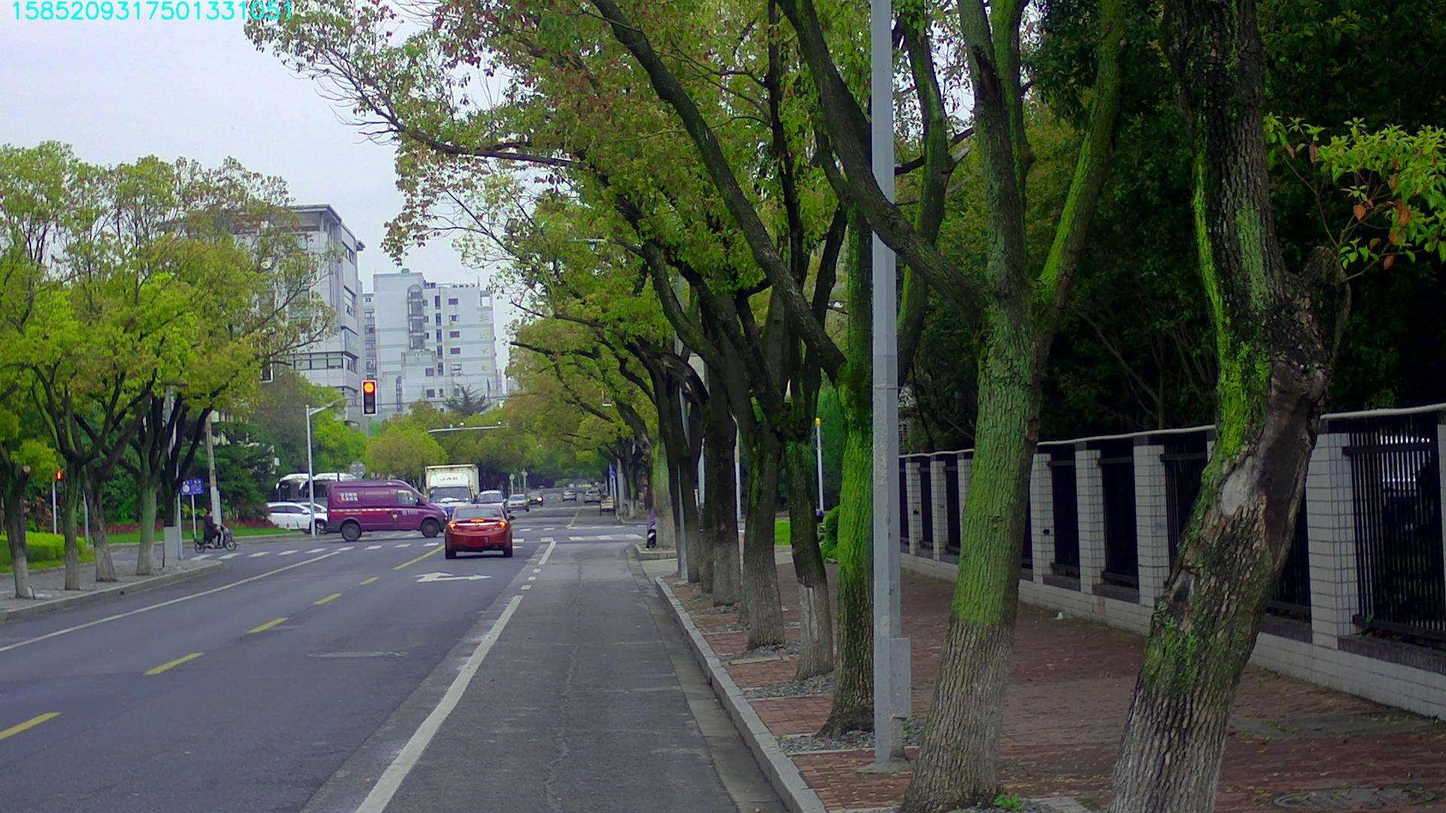red: (362, 380, 376, 415)
